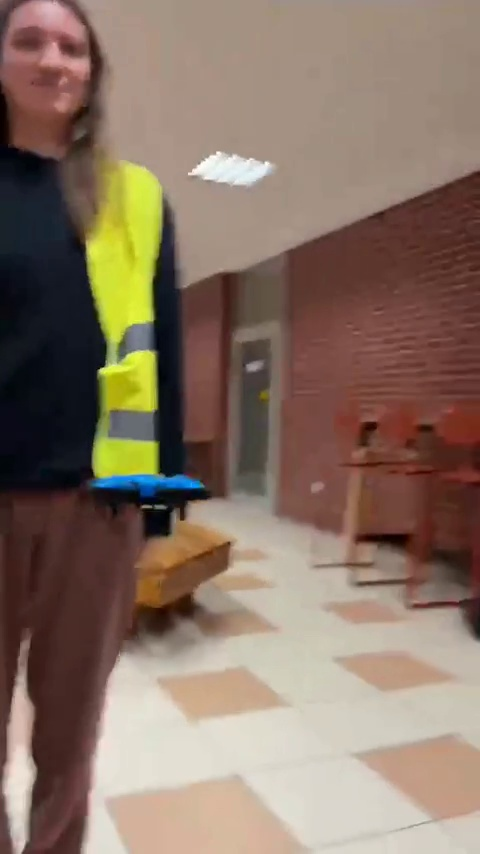drone: (84, 476, 225, 526)
vest: (5, 63, 188, 850)
